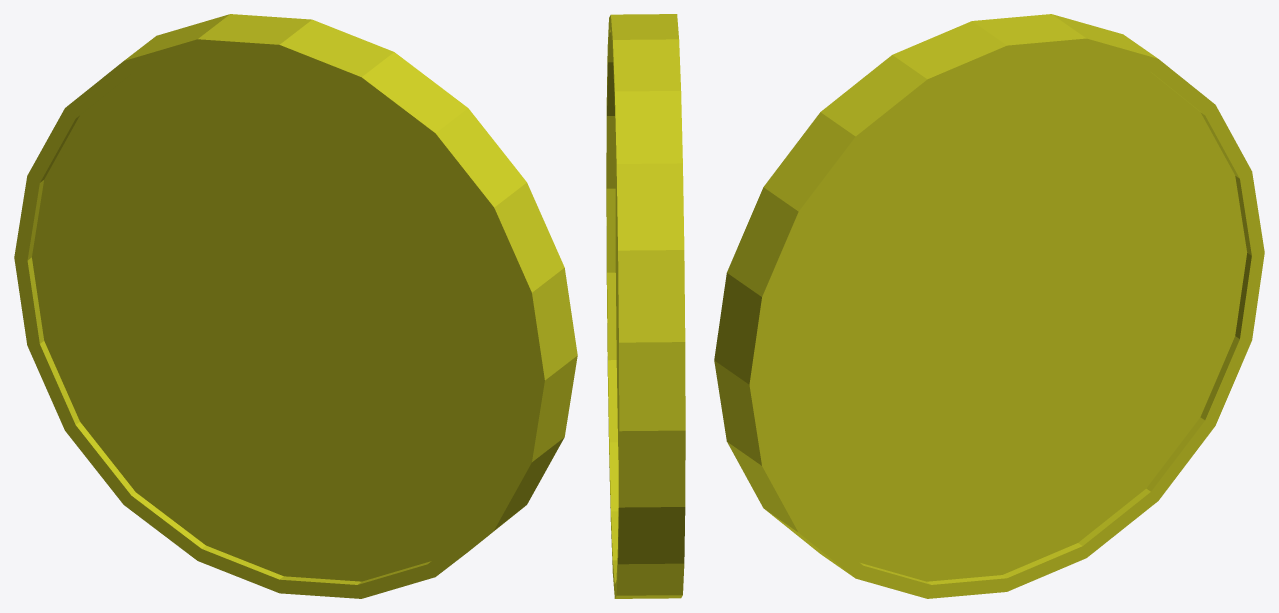
File: Low Poly Coin_000046.obj
3 renders of one model, left to right at view 1: azimuth 30°, elevation 25°; view 2: azimuth 150°, elevation 25°; view 3: azimuth 270°, elevation 25°, orthographic. The views are drawn at different scales.
Visible parts, largest first — view 1: Cylinder; view 2: Cylinder; view 3: Cylinder.
Part boxes in pixels (box(x1,y1,x2,y2)): Cylinder: box(14, 14, 577, 598); Cylinder: box(606, 14, 685, 598); Cylinder: box(714, 14, 1264, 598).
Bounding box in the file's own units: 1.23 × 2 × 1.83.
